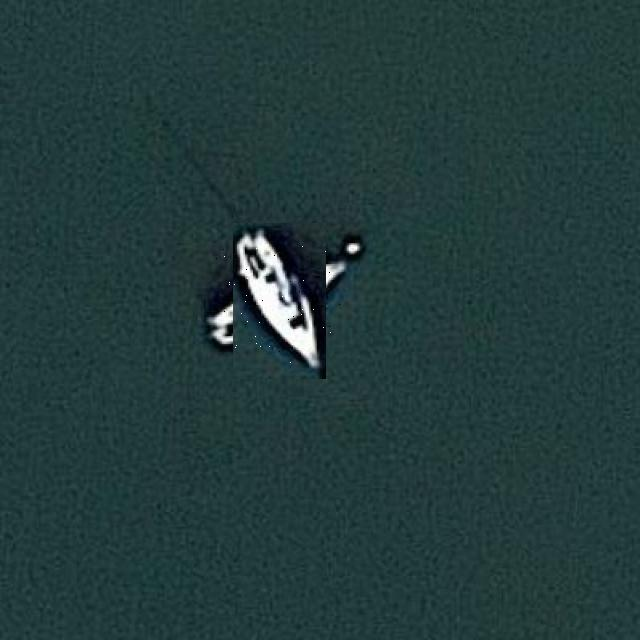boat: (216, 239, 342, 363)
